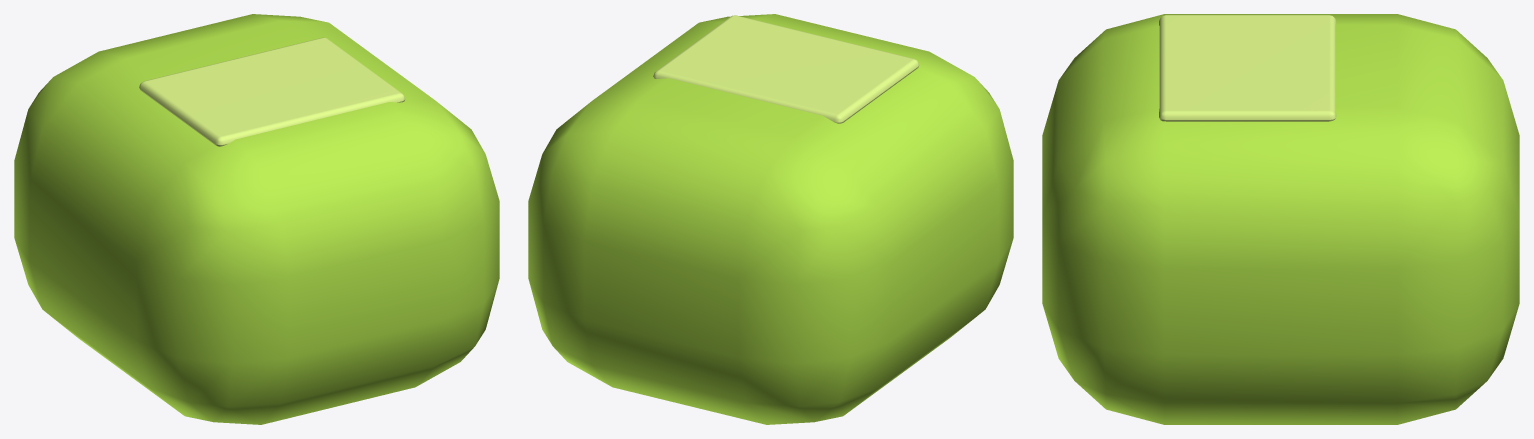
The model's file is snake-body.glb.
3 renders of one model, left to right at view 1: azimuth 30°, elevation 25°; view 2: azimuth 150°, elevation 25°; view 3: azimuth 270°, elevation 25°, orthographic. The views are drawn at different scales.
Parts seen in each view (by area): view 1: Body segment, Dorsal accent; view 2: Body segment, Dorsal accent; view 3: Body segment, Dorsal accent.
Boxes of the visible parts, bbox=[...] form: Body segment: bbox=[14, 14, 499, 424]; Dorsal accent: bbox=[139, 37, 405, 146]; Body segment: bbox=[528, 14, 1013, 424]; Dorsal accent: bbox=[653, 15, 919, 123]; Body segment: bbox=[1042, 14, 1519, 424]; Dorsal accent: bbox=[1159, 15, 1336, 121].
Bounding box in the file's own units: 0.79 × 0.616 × 0.86.
